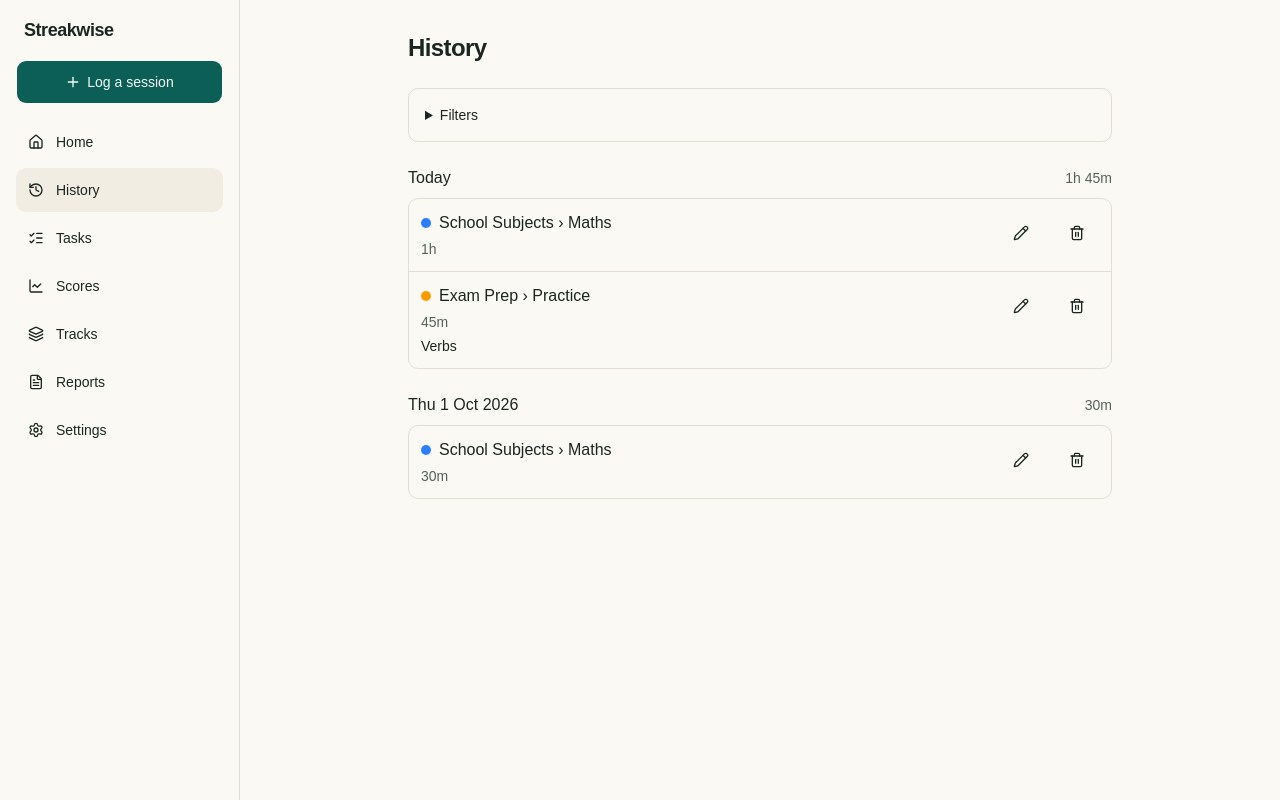
Scenario: editing and deleting (HIST-2) › edits a session in a dialog
The width and height of the screenshot is (1280, 800).
Step 1. Click the button named "Edit 45m of Practice" → (1021, 306), box [999,284,1043,328]
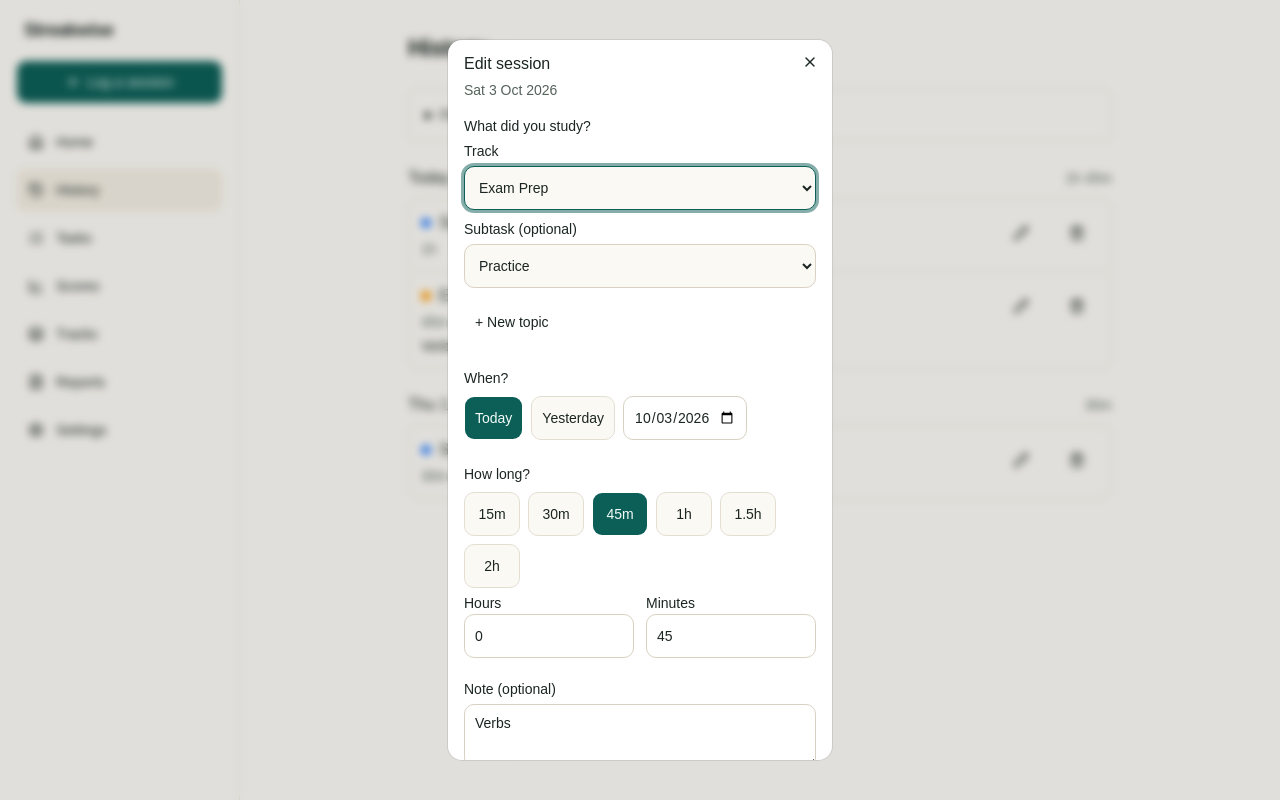
Step 2. Click the button "2h" → (492, 566), box [464,544,520,588]
(page scrolled)
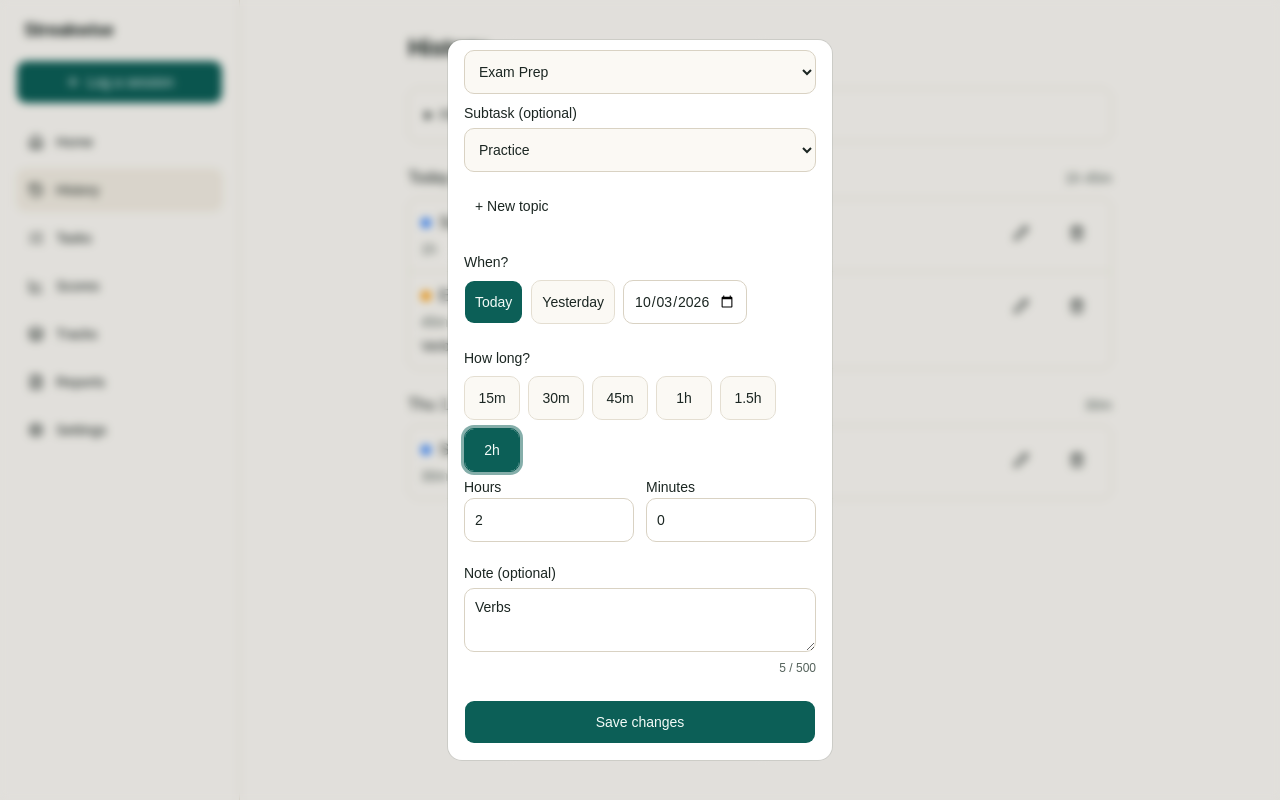
Step 3. Click the button "Save changes" → (640, 722), box [464,700,816,744]
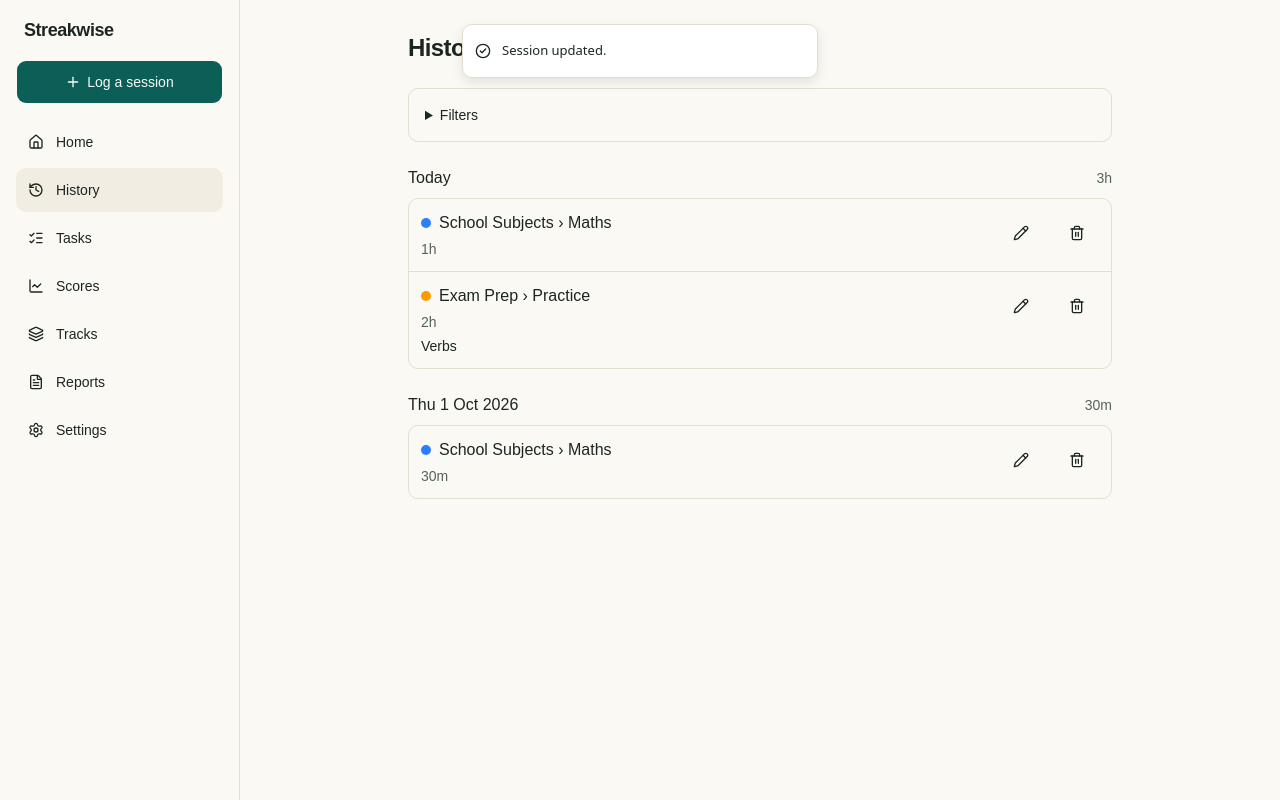
expect the button named "Edit 2h of Practice" is shown: met, box [999,284,1043,328]
